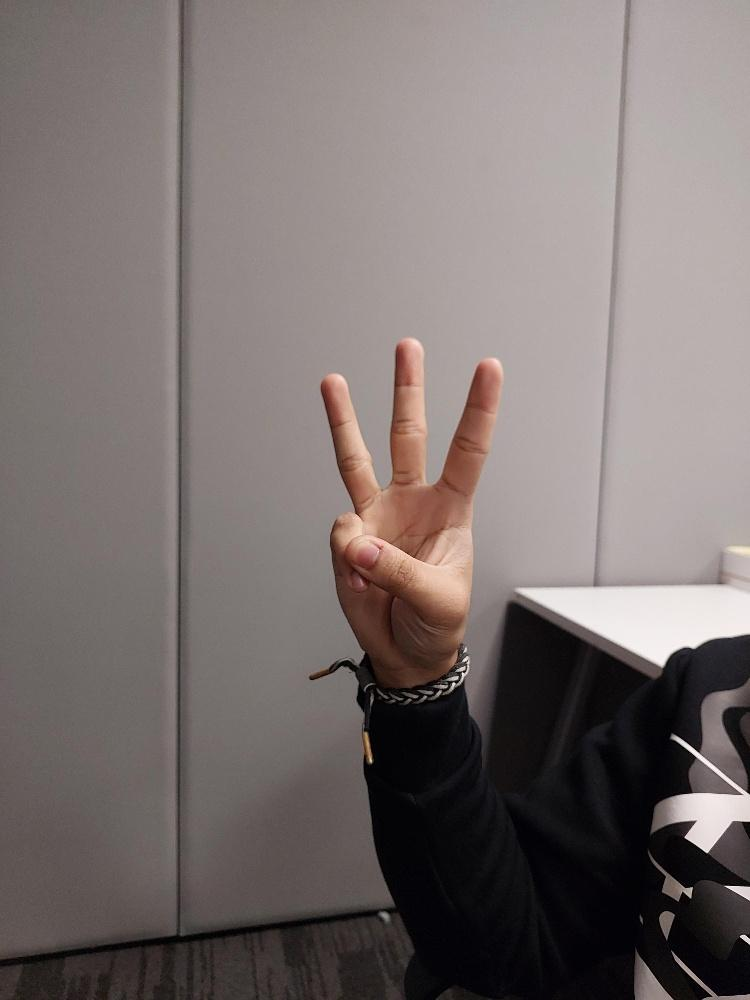w: (318, 334, 505, 671)
